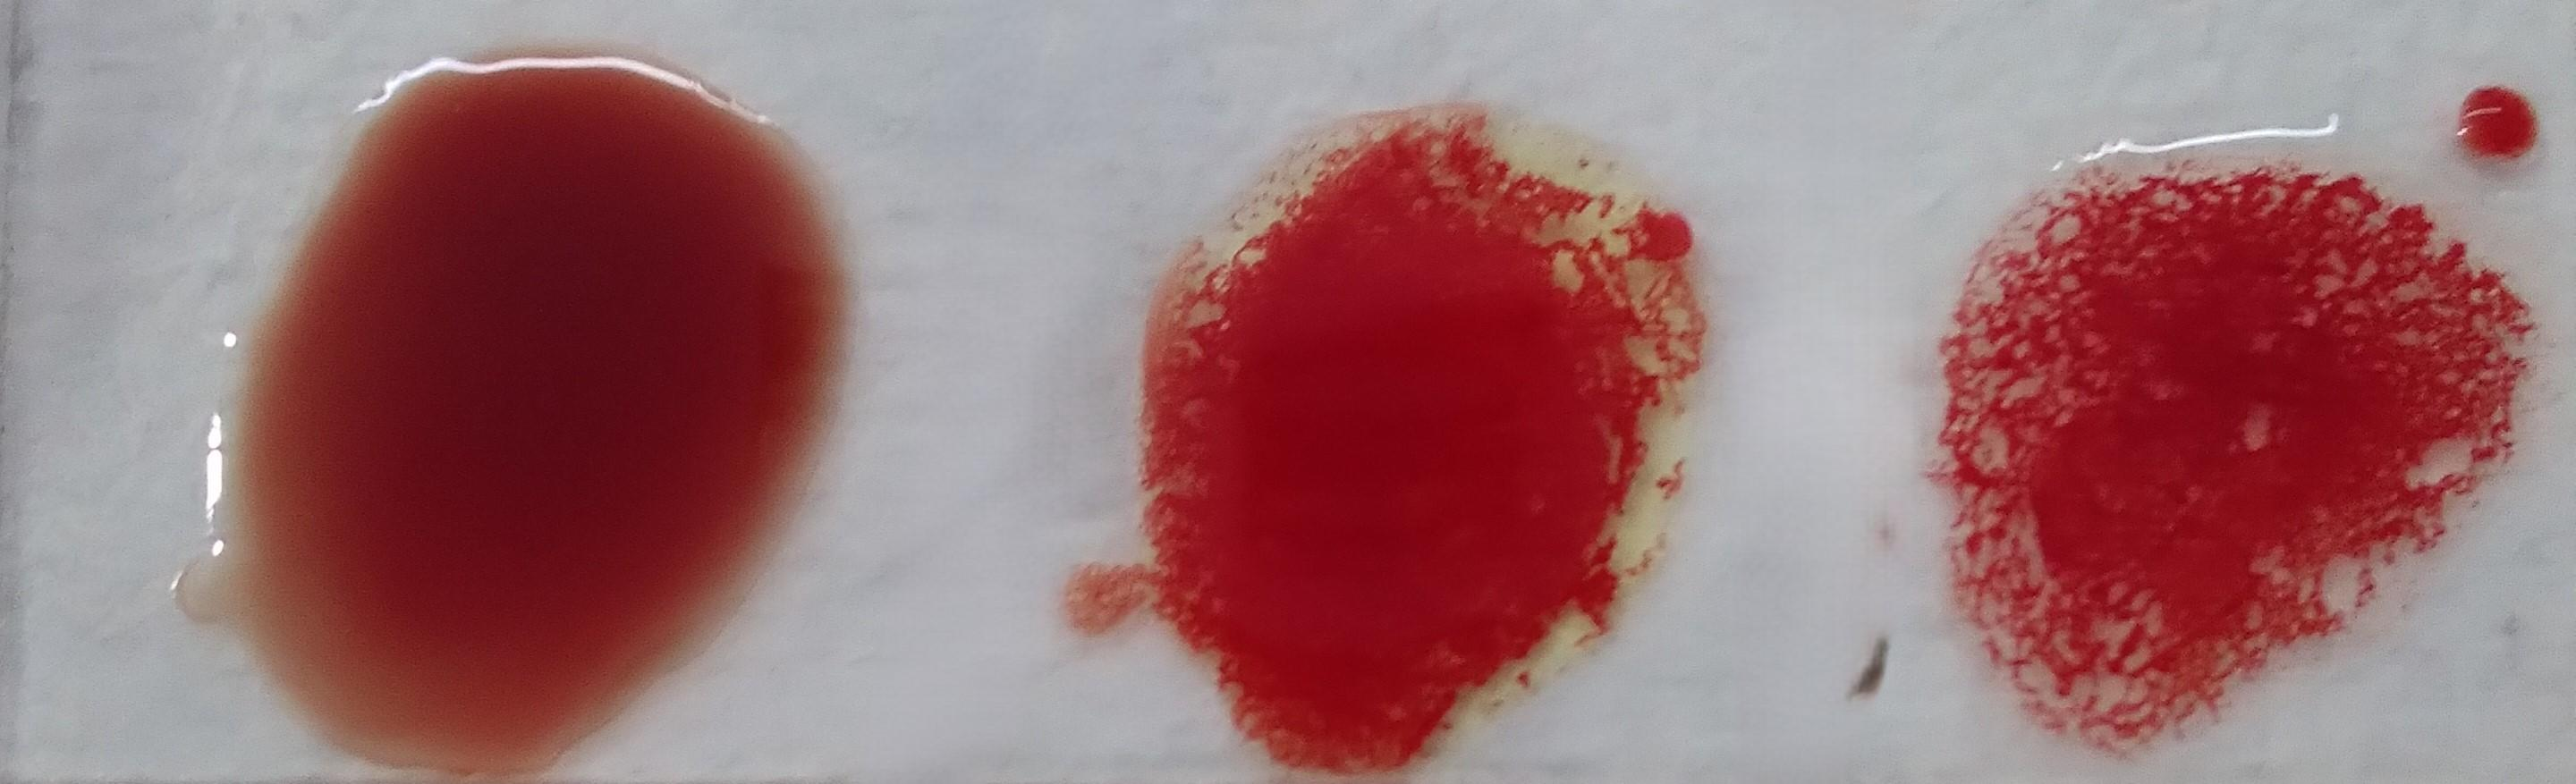B: (1137, 113, 1695, 784)
D: (1947, 131, 2537, 738)
